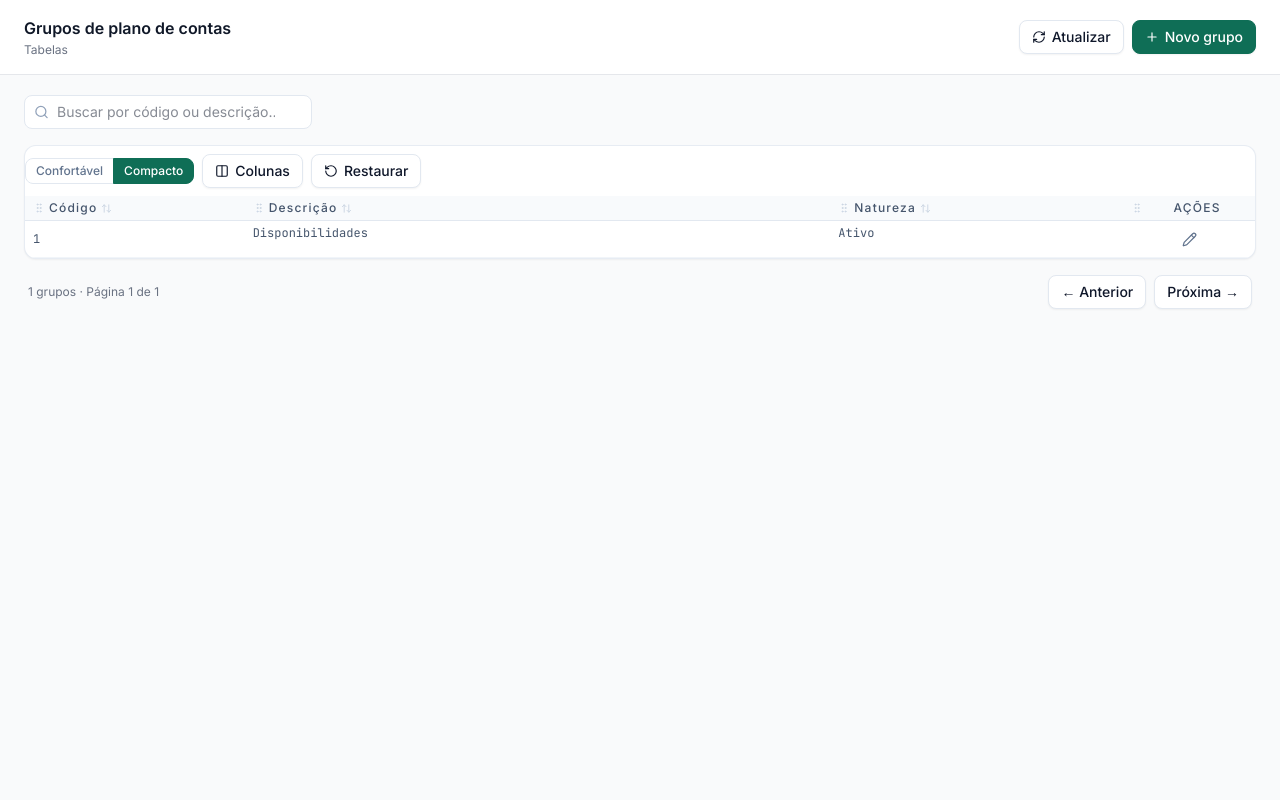
ChartAccountGroupsPage › abre o modal ao clicar em "Novo grupo"
The image size is (1280, 800).
Expected: the text "Disponibilidades" is shown, [245, 220, 830, 258]
Step 1. Click the button "Novo grupo" → (1194, 37), box [1132, 20, 1256, 54]
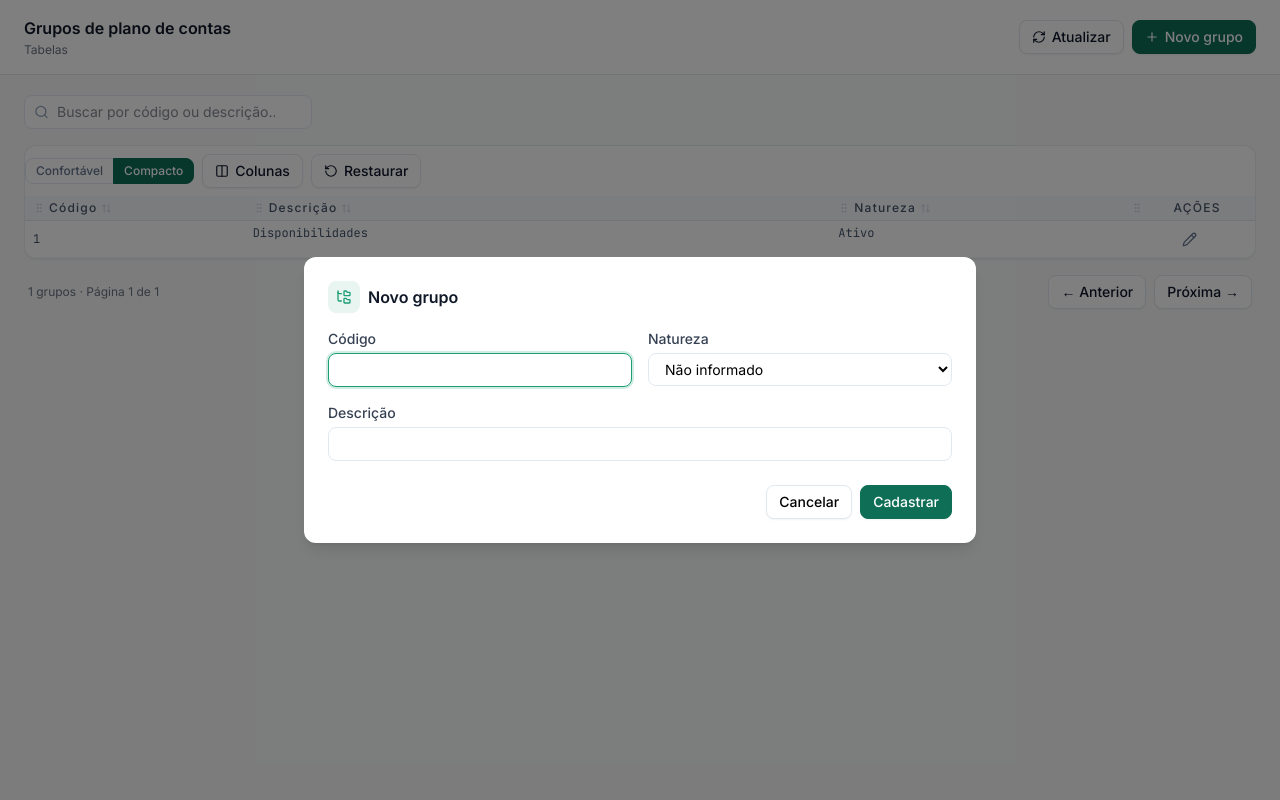
Expected: the button "Cadastrar" is shown, [860, 485, 952, 519]
